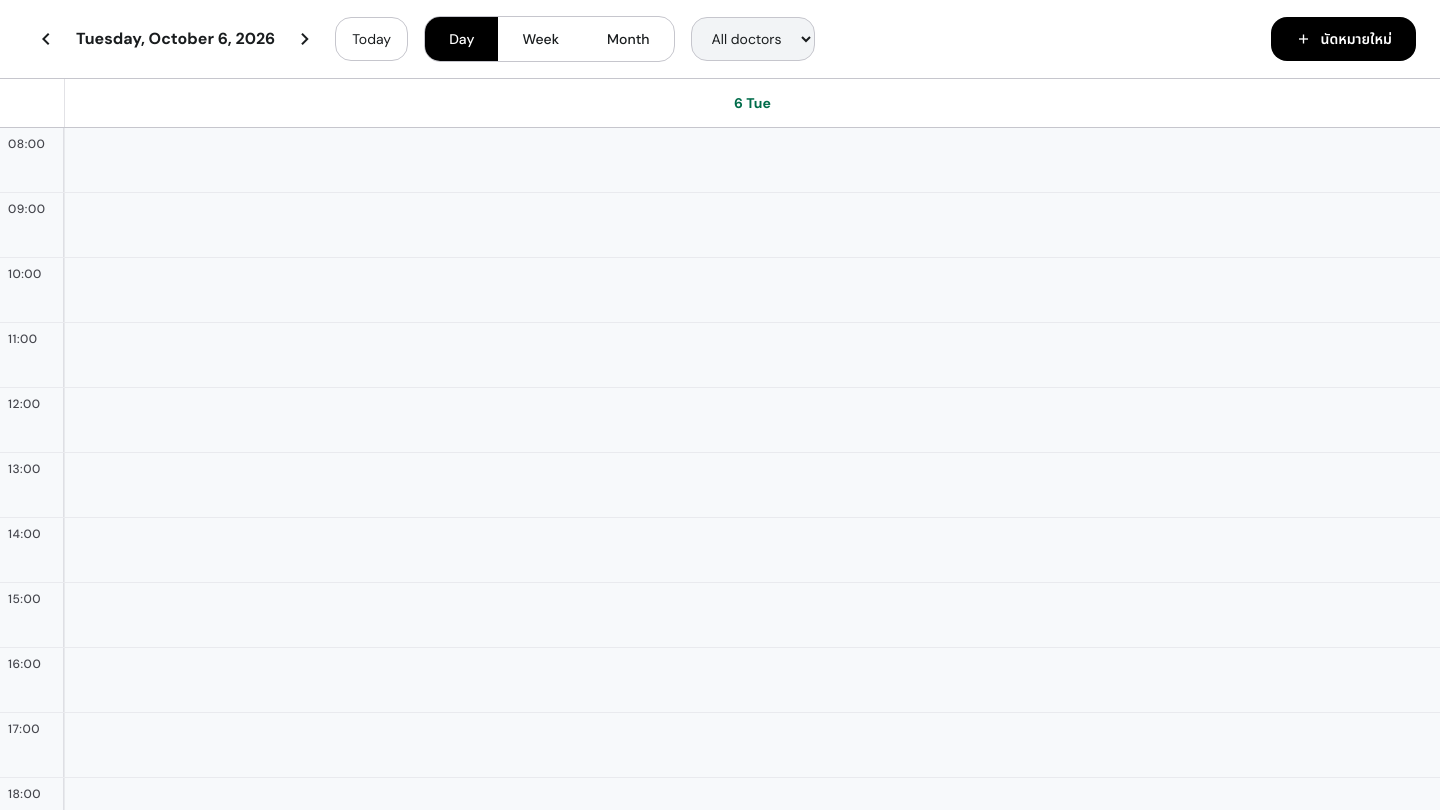
ClinicAppointments — Thai i18n › renders Thai patient label
Click the button "นัดหมายใหม่".
click(1343, 39)  # box [1271, 17, 1416, 61]
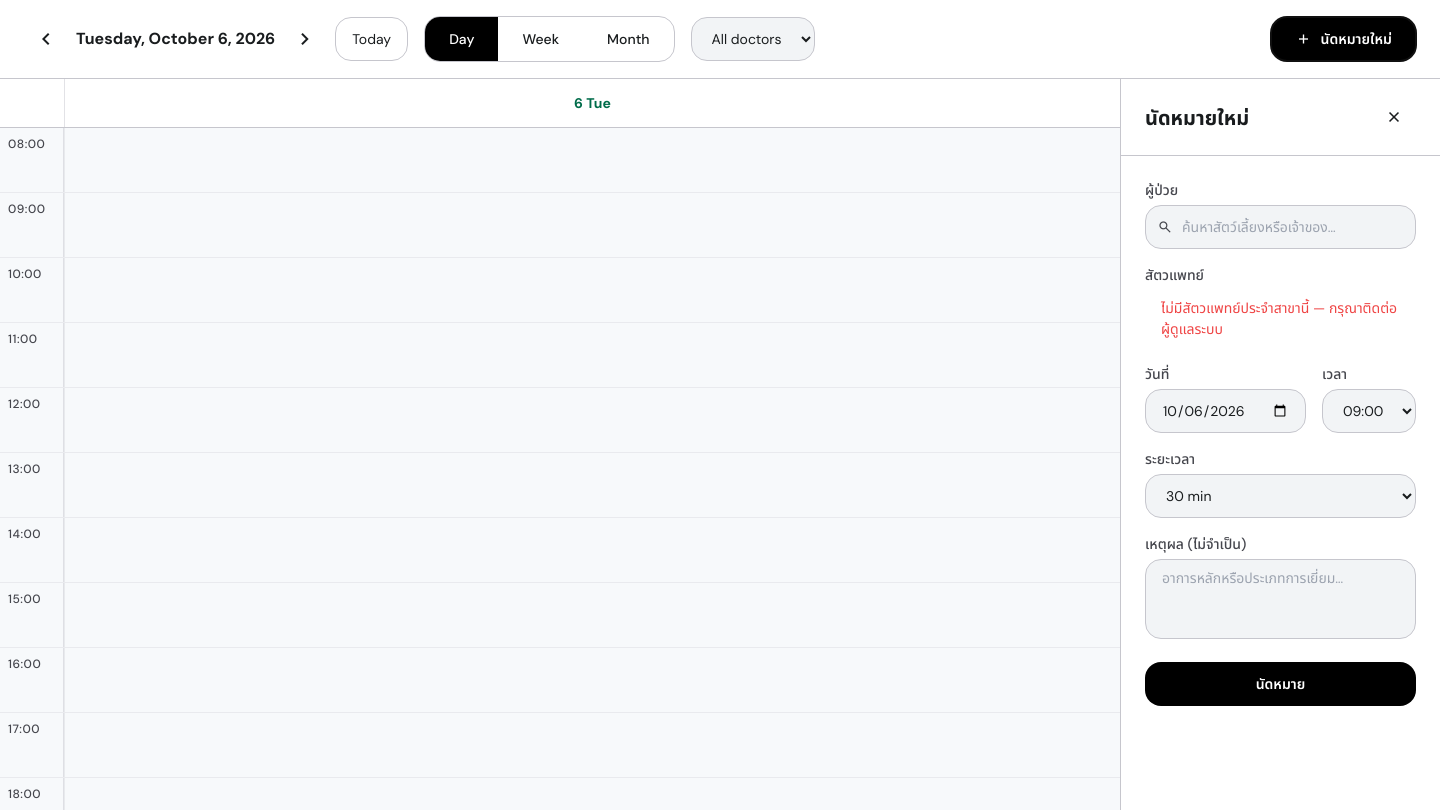
expect the text "ผู้ป่วย" is shown: met, box [1145, 181, 1178, 199]
